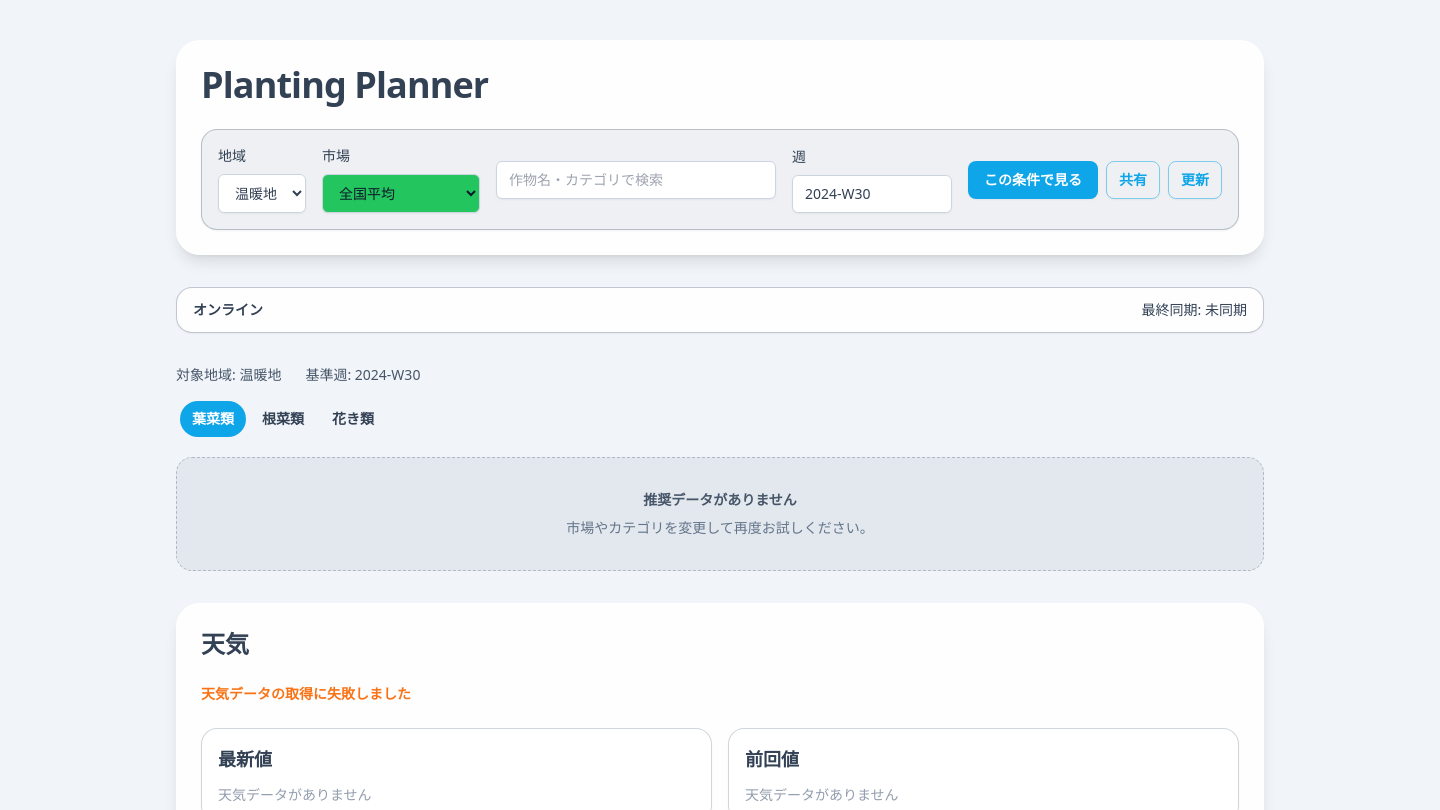
Test case: App recommendations › 両方のAPIが失敗しても基準週が送信週に同期される
The width and height of the screenshot is (1440, 810).
Expected: the text "基準週: 2024-W30" is shown, [305,365,420,385]
Type "2024-W31" into the field labelled "週" at (872, 194), box [792,174,952,212]
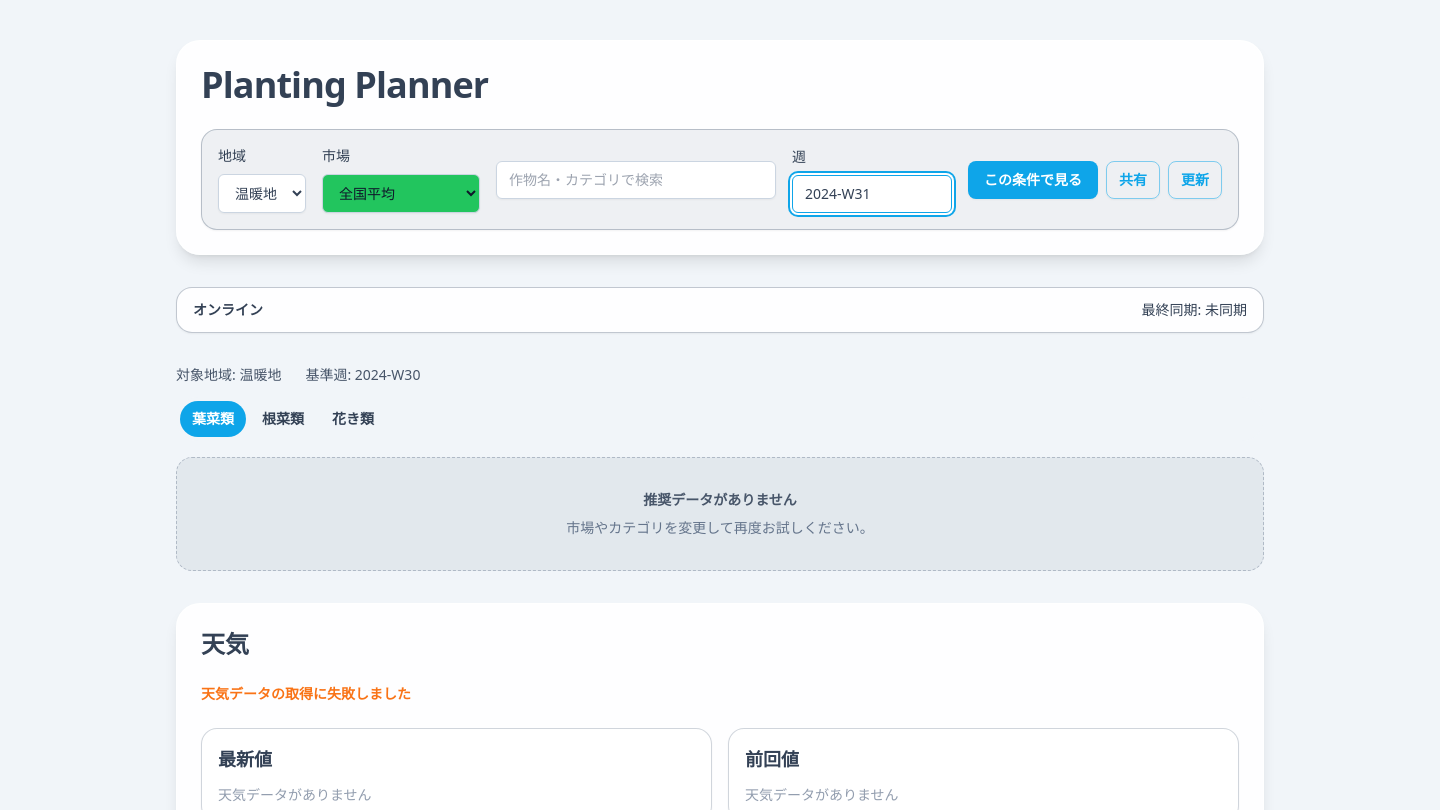
Click the button "この条件で見る" at (1033, 180), box [968,160,1098,198]
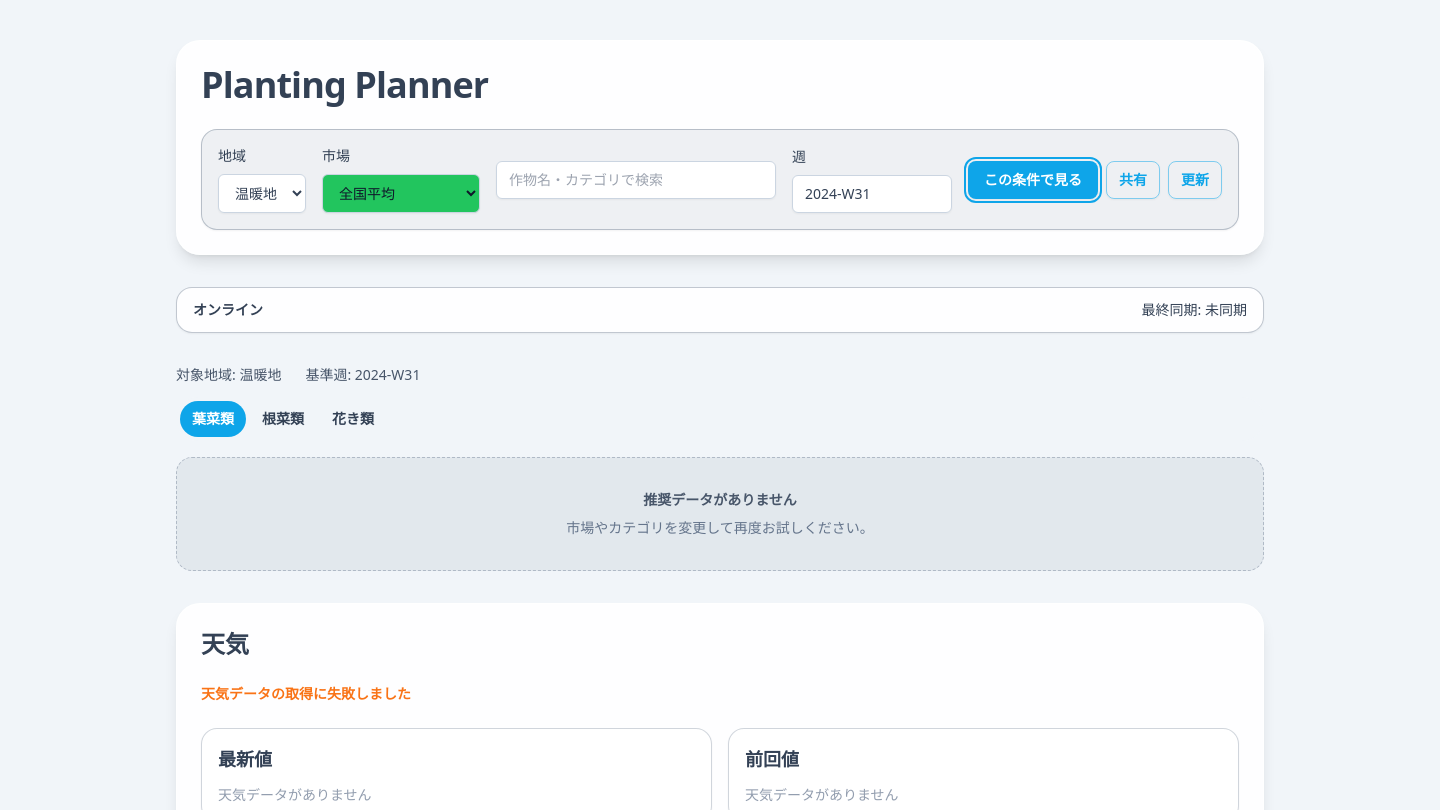
Result: the text "基準週: 2024-W31" is shown at [305,365,420,385]
